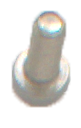Standing-Screw: (3, 7, 80, 121)
